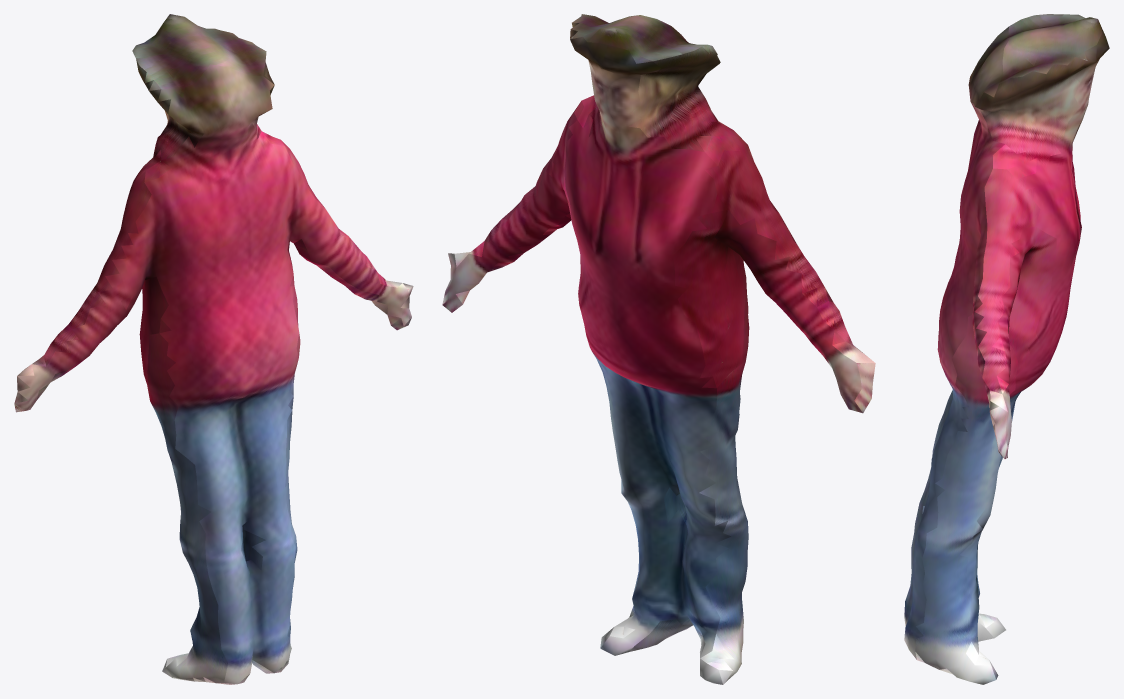
3 renders of one model, left to right at view 1: azimuth 30°, elevation 25°; view 2: azimuth 150°, elevation 25°; view 3: azimuth 270°, elevation 25°, orthographic. The views are drawn at different scales.
Parts seen in each view (by area): view 1: world; view 2: world; view 3: world.
Boxes of the visible parts, x1,y1,x2,y2 form: world: (14, 14, 413, 684); world: (442, 14, 875, 684); world: (904, 14, 1109, 684).
Size of the model in its own units: 0.6711 by 1 by 0.2918.
Materials: 1 (1 with a texture image).
